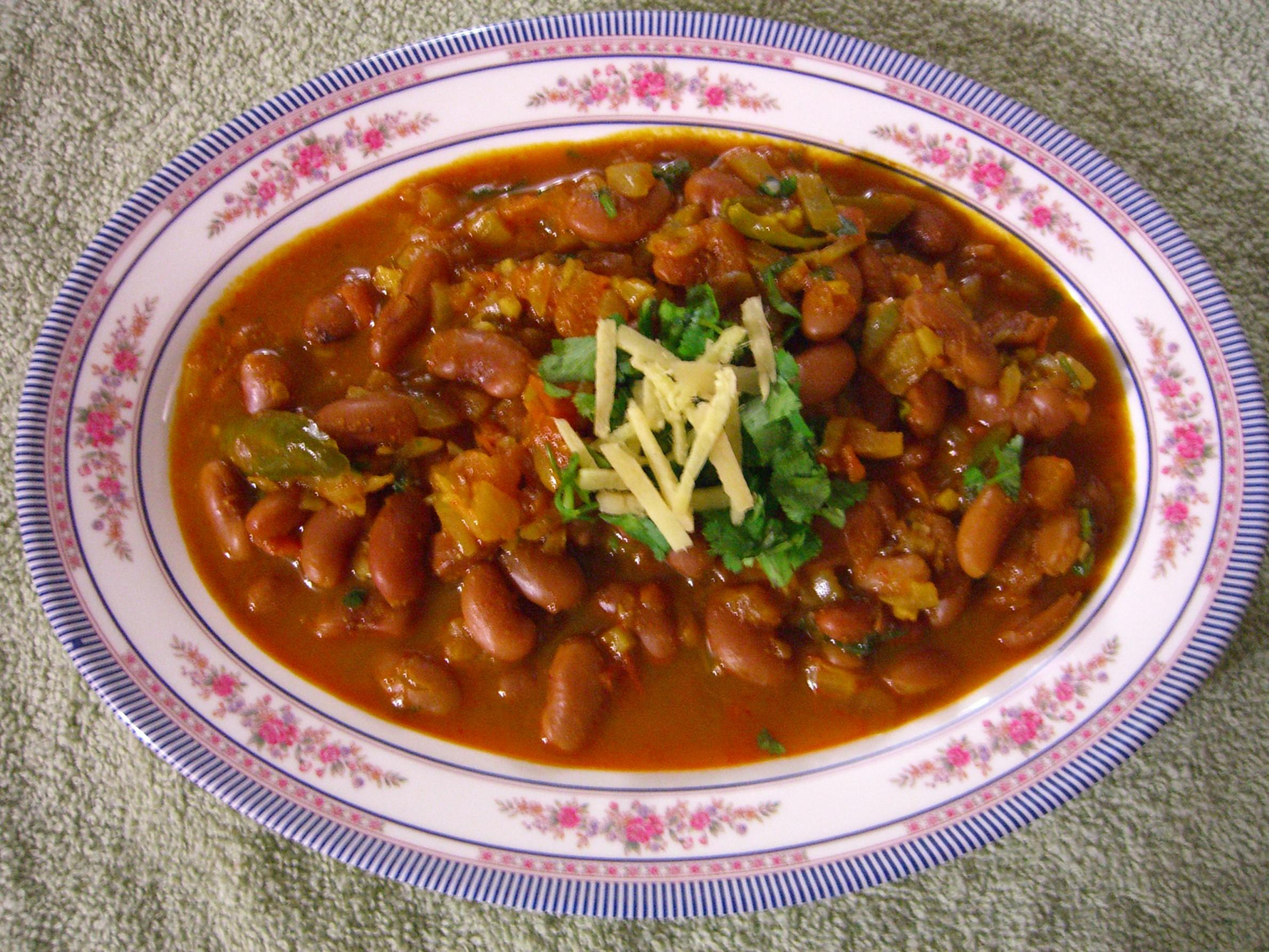RajmaCurry: (153, 130, 1143, 764)
